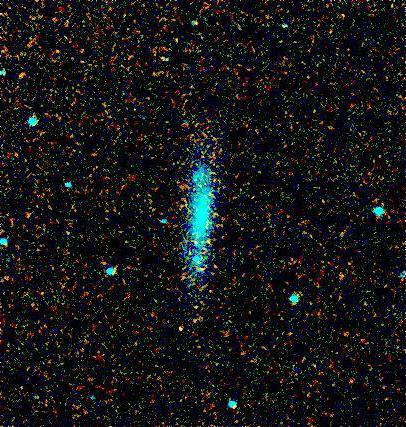star: (167, 314, 197, 344)
